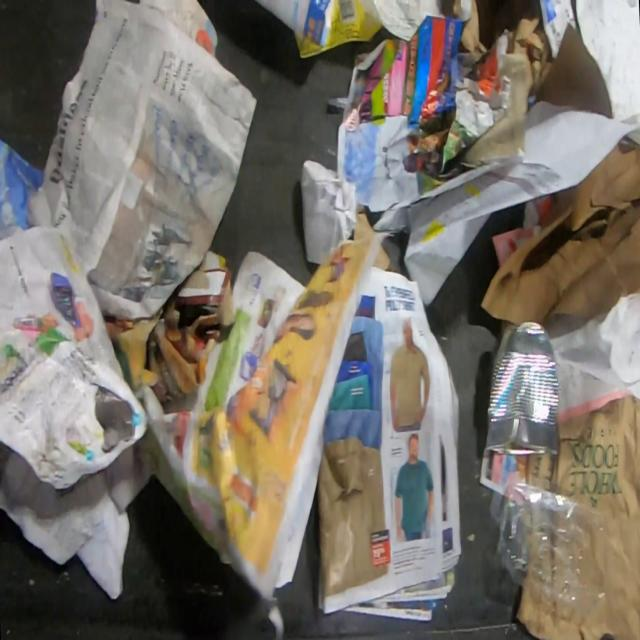cardboard: (479, 135, 640, 340), (145, 248, 235, 404), (527, 17, 613, 118), (506, 12, 553, 96), (450, 0, 488, 54)
metal: (484, 318, 561, 457)
rigid_plastic: (487, 472, 614, 625)
